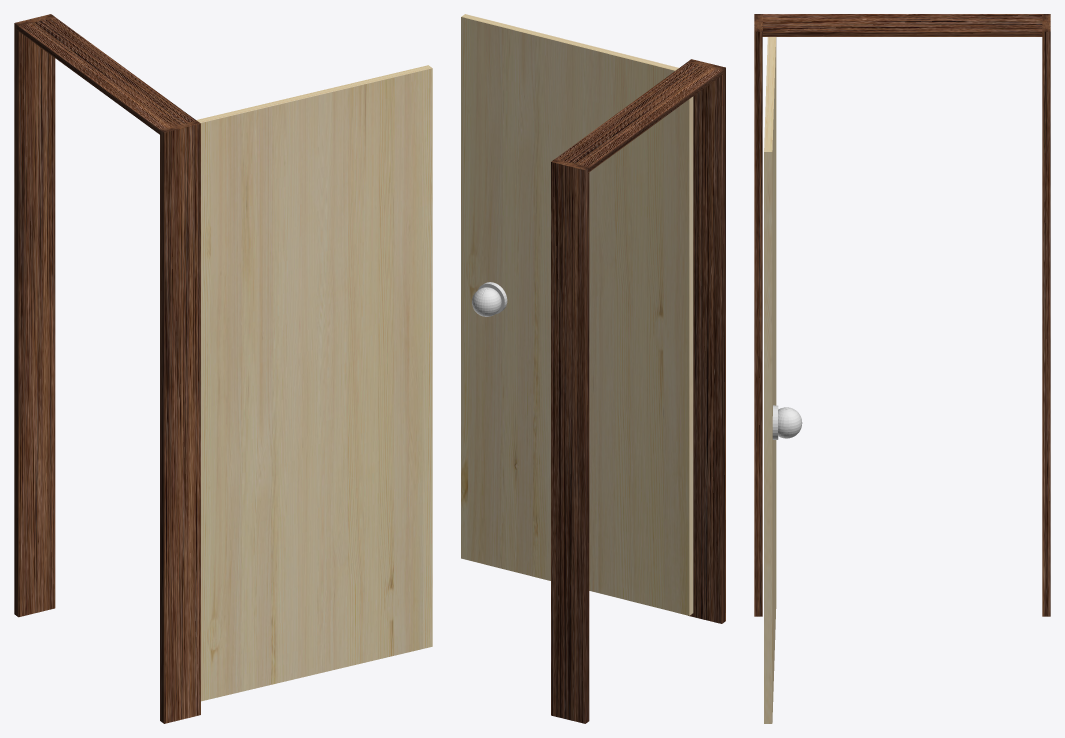
Rendered from puerta_abrir(1).fbx.
3 views of the same model, side by side, from view 1: azimuth 30°, elevation 25°; view 2: azimuth 150°, elevation 25°; view 3: azimuth 270°, elevation 25° (orthographic). The views are drawn at different scales.
Visible parts, largest first — view 1: Cube; view 2: Cube; view 3: Cube.
Boxes of the visible parts, <box> form: Cube: <box>14,14,432,723</box>; Cube: <box>461,14,725,723</box>; Cube: <box>754,14,1050,723</box>.
Size of the model in its own units: 223 by 460 by 211.
5 materials, 4 textured.
